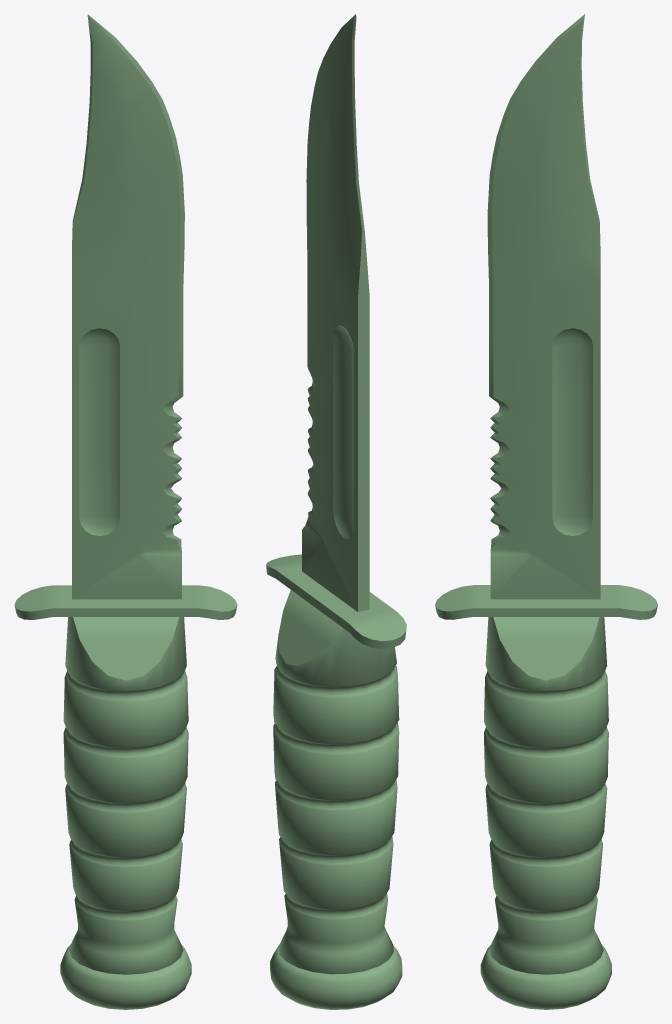
File: Knife_05_Mesh.FBX
3 views of the same model, side by side, from view 1: azimuth 90°, elevation 25°; view 2: azimuth 210°, elevation 25°; view 3: azimuth 270°, elevation 25° (orthographic).
Visible parts, largest first — view 1: Knife_05_Mesh; view 2: Knife_05_Mesh; view 3: Knife_05_Mesh.
Part boxes in pixels (x1,y1,x2,y2): Knife_05_Mesh: [14, 14, 237, 1009]; Knife_05_Mesh: [266, 14, 406, 1009]; Knife_05_Mesh: [435, 14, 657, 1009].
Bounding box in the file's own units: 4.05 × 6.89 × 33.47.
